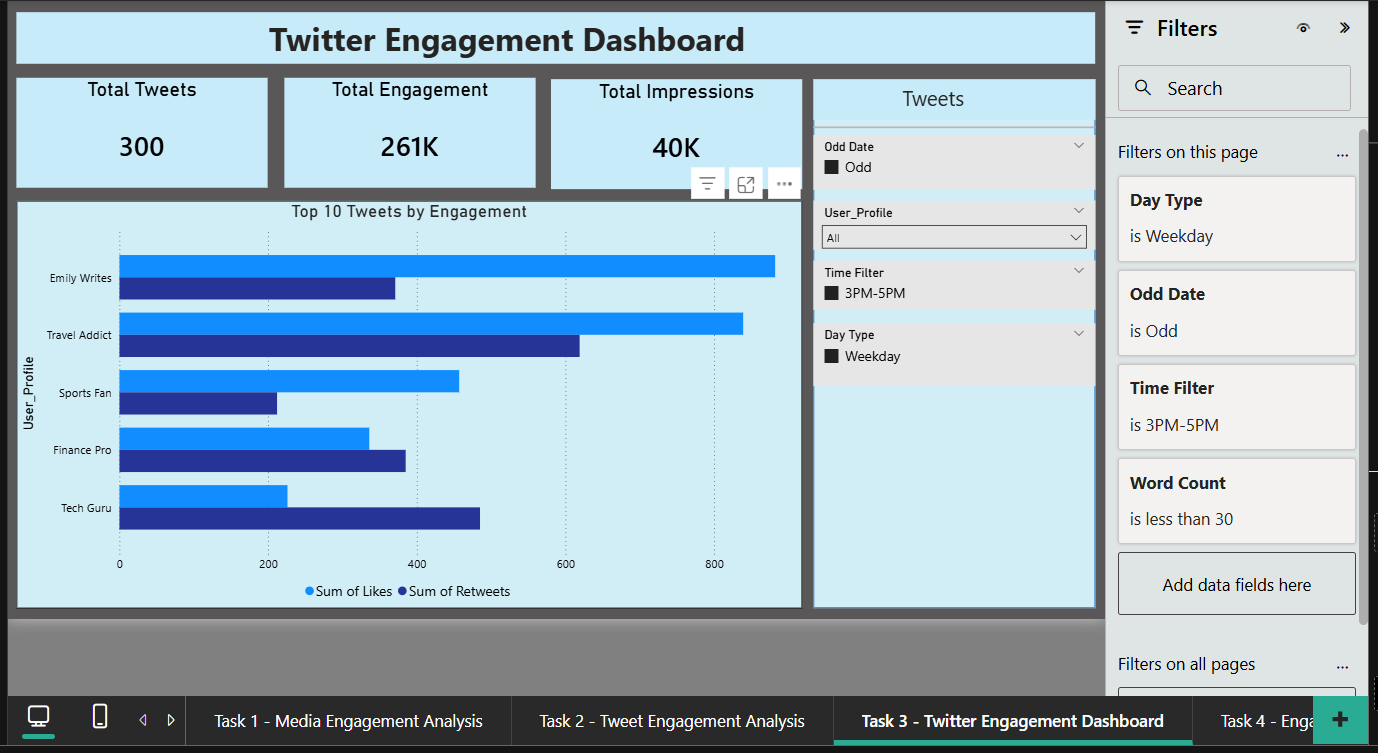

The page's visual inventory and layout, read from the dashboard file:
{"tool":"powerbi","page":{"name":"Task 3 - Twitter Engagement Dashboard","canvas":[1280,720],"ordinal":2},"visuals":[{"type":"textbox","box":[9.8,13,1258.2,60.2],"z":0},{"type":"cardVisual","title":"Total Tweets","fields":{"Data":["Sum(twitter_engagement_dataset3.Total Tweets)"]},"box":[9.8,89.5,293,128.6],"z":1000},{"type":"cardVisual","title":"Total Engagement","fields":{"Data":["Sum(twitter_engagement_dataset3.Total Engagement)"]},"box":[322.3,89.5,293,128.6],"z":2000},{"type":"cardVisual","title":"Total Impressions","fields":{"Data":["Sum(twitter_engagement_dataset3.Impressions)"]},"box":[633.2,91.2,293,128.6],"z":3000},{"type":"clusteredBarChart","title":"Top 10 Tweets by Engagement","fields":{"Category":["twitter_engagement_dataset3.User_Profile"],"Y":["Sum(twitter_engagement_dataset3.Likes)","Sum(twitter_engagement_dataset3.Retweets)"]},"box":[9.8,232.8,916.4,475.3],"z":4000},{"type":"shape","box":[939.2,91.2,328.8,616.9],"z":5000},{"type":"slicer","fields":{"Values":["twitter_engagement_dataset3.Odd Date"]},"box":[939.2,156.3,328.8,63.5],"z":6000},{"type":"textbox","box":[939.2,91.2,328.8,47.2],"z":7000},{"type":"shape","box":[939.2,138.4,328.8,17.9],"z":8000},{"type":"slicer","fields":{"Values":["twitter_engagement_dataset3.User_Profile"]},"box":[939.2,232.8,328.8,57],"z":9000},{"type":"slicer","fields":{"Values":["twitter_engagement_dataset3.Time Filter"]},"box":[939.2,302.8,328.8,57],"z":10000},{"type":"slicer","fields":{"Values":["twitter_engagement_dataset3.Day Type"]},"box":[939.2,376,328.8,73.2],"z":11000}]}

Visuals, with their boxes on the page's 1280x720 design canvas (x1, y1, x2, y2). These are canvas units, not pixel positions in the 1378x753 screenshot, which may show the page scaled, cropped or inside an application window:
textbox: {"left": 10, "top": 13, "right": 1268, "bottom": 73}
"Total Tweets" cardVisual: {"left": 10, "top": 90, "right": 303, "bottom": 218}
"Total Engagement" cardVisual: {"left": 322, "top": 90, "right": 615, "bottom": 218}
"Total Impressions" cardVisual: {"left": 633, "top": 91, "right": 926, "bottom": 220}
"Top 10 Tweets by Engagement" clusteredBarChart: {"left": 10, "top": 233, "right": 926, "bottom": 708}
shape: {"left": 939, "top": 91, "right": 1268, "bottom": 708}
slicer - twitter_engagement_dataset3.Odd Date: {"left": 939, "top": 156, "right": 1268, "bottom": 220}
textbox: {"left": 939, "top": 91, "right": 1268, "bottom": 138}
shape: {"left": 939, "top": 138, "right": 1268, "bottom": 156}
slicer - twitter_engagement_dataset3.User_Profile: {"left": 939, "top": 233, "right": 1268, "bottom": 290}
slicer - twitter_engagement_dataset3.Time Filter: {"left": 939, "top": 303, "right": 1268, "bottom": 360}
slicer - twitter_engagement_dataset3.Day Type: {"left": 939, "top": 376, "right": 1268, "bottom": 449}
